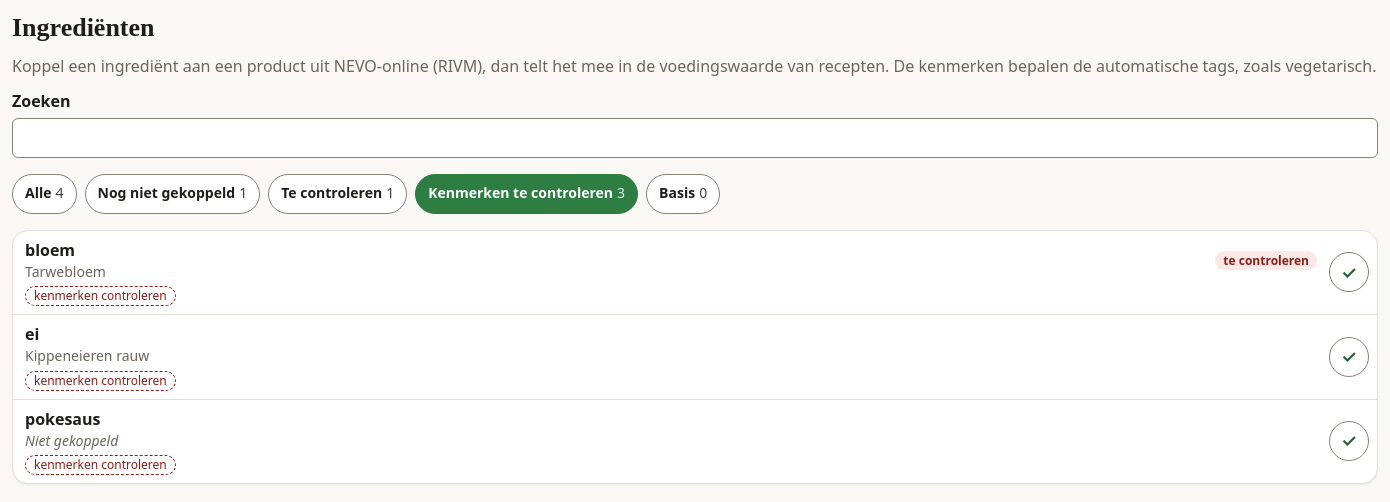
Scenario: IngredientsView › ✓ zet traits_checked; de rij verdwijnt uit "Kenmerken te controleren" zonder herladen
The image size is (1390, 502).
What coordinates should you click on to do the following:
click the button with class "mark-checked" in the row of "Kippeneieren rauw"
I would click on:
 (1349, 357)
Its box is [1329,337,1369,377].
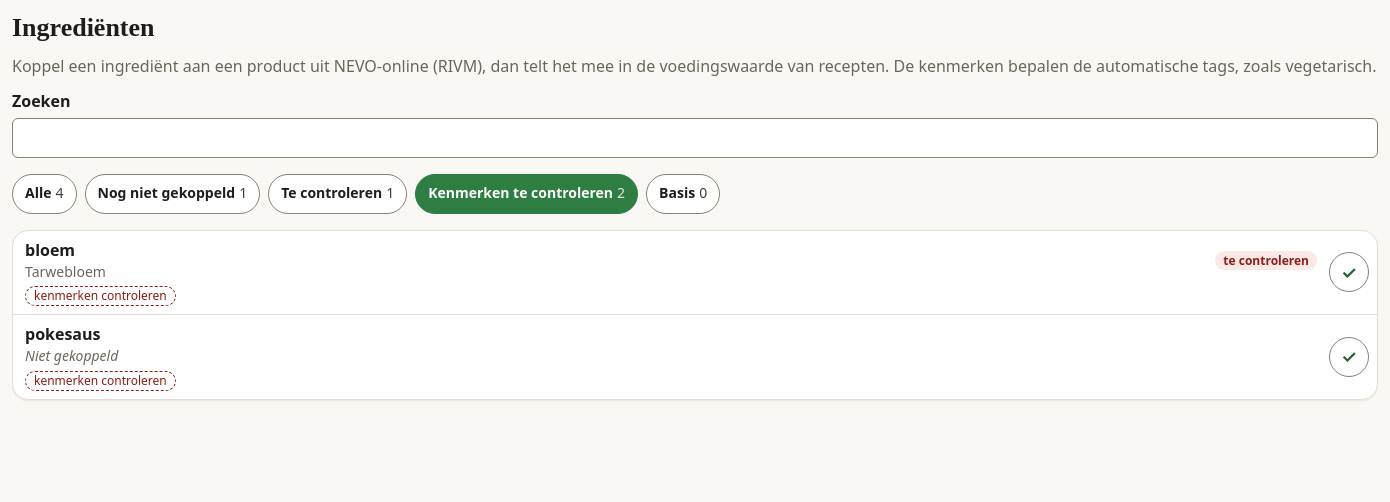
Now the button with class "filter-chip" reads "Kenmerken te controleren 2", box [415,174,638,214]
